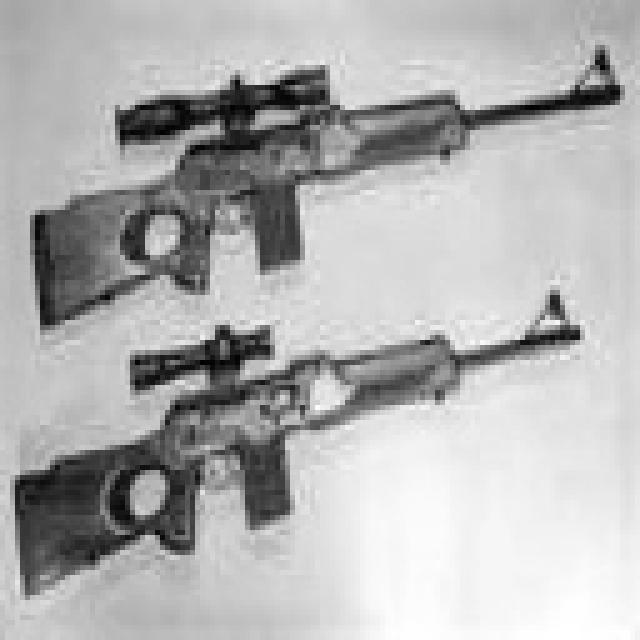Rifle: (0, 0, 640, 340), (0, 286, 640, 620)
